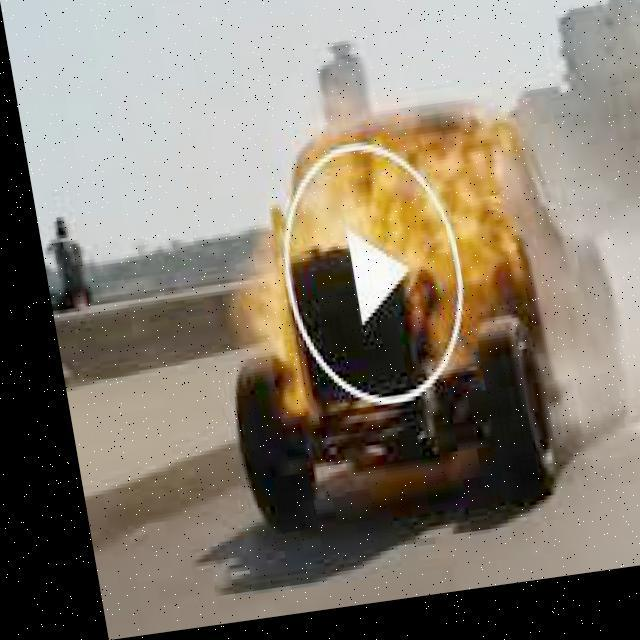Fire: (221, 114, 574, 440)
